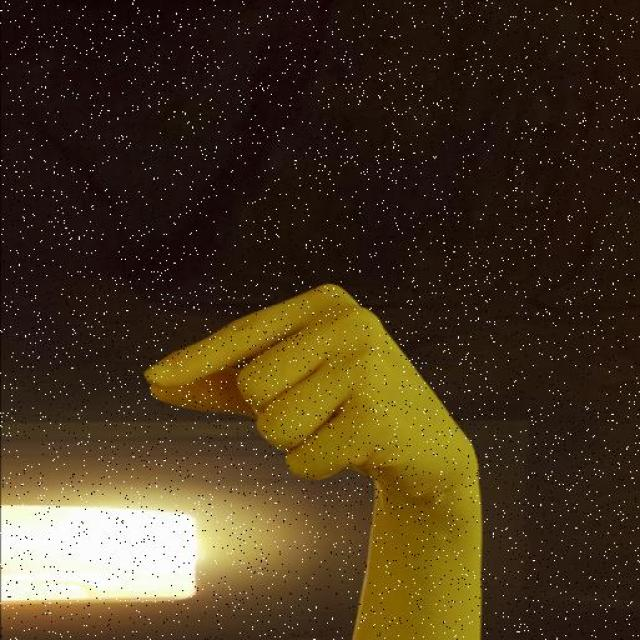G: (132, 276, 483, 553)
